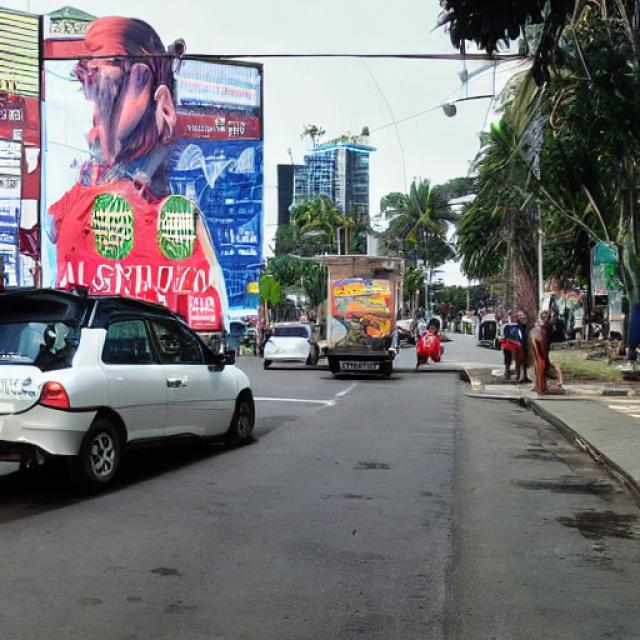Billboard: (41, 34, 263, 346)
